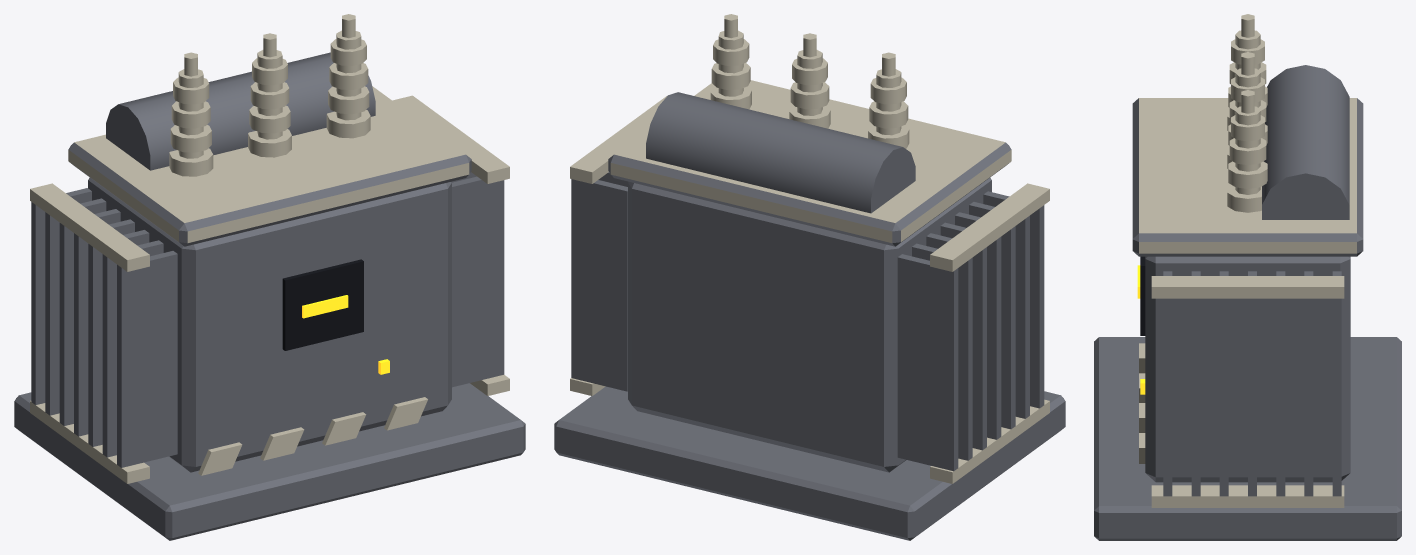
Rendered from transformer.glb.
3 renders of one model, left to right at view 1: azimuth 30°, elevation 25°; view 2: azimuth 150°, elevation 25°; view 3: azimuth 270°, elevation 25°, orthographic.
Visible parts, largest first — view 1: transformer; view 2: transformer; view 3: transformer.
Boxes of the visible parts, bbox=[...] form: transformer: bbox=[14, 14, 525, 540]; transformer: bbox=[554, 14, 1065, 540]; transformer: bbox=[1094, 14, 1401, 540].
Size of the model in its own units: 3.4 by 3.45 by 2.4.
